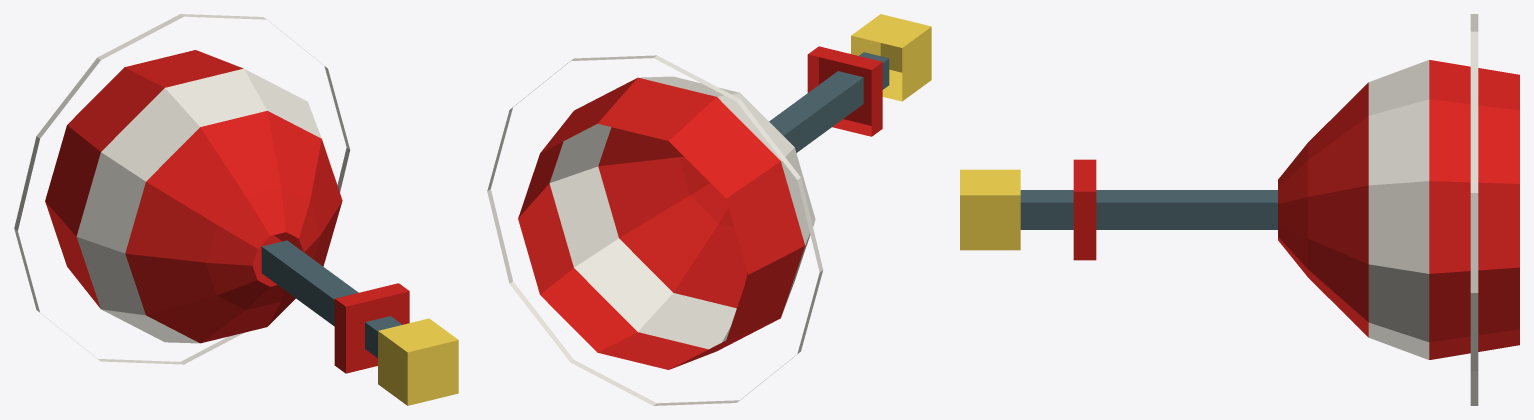
3 renders of one model, left to right at view 1: azimuth 30°, elevation 25°; view 2: azimuth 150°, elevation 25°; view 3: azimuth 270°, elevation 25°, orthographic. The views are drawn at different scales.
Parts seen in each view (by area): view 1: buoy_default; view 2: buoy_default; view 3: buoy_default.
Part boxes in pixels (<box>): buoy_default: <box>14,14,458,405</box>; buoy_default: <box>487,14,931,405</box>; buoy_default: <box>960,14,1519,405</box>.
Size of the model in its own units: 5.2 by 5.2 by 7.4.
